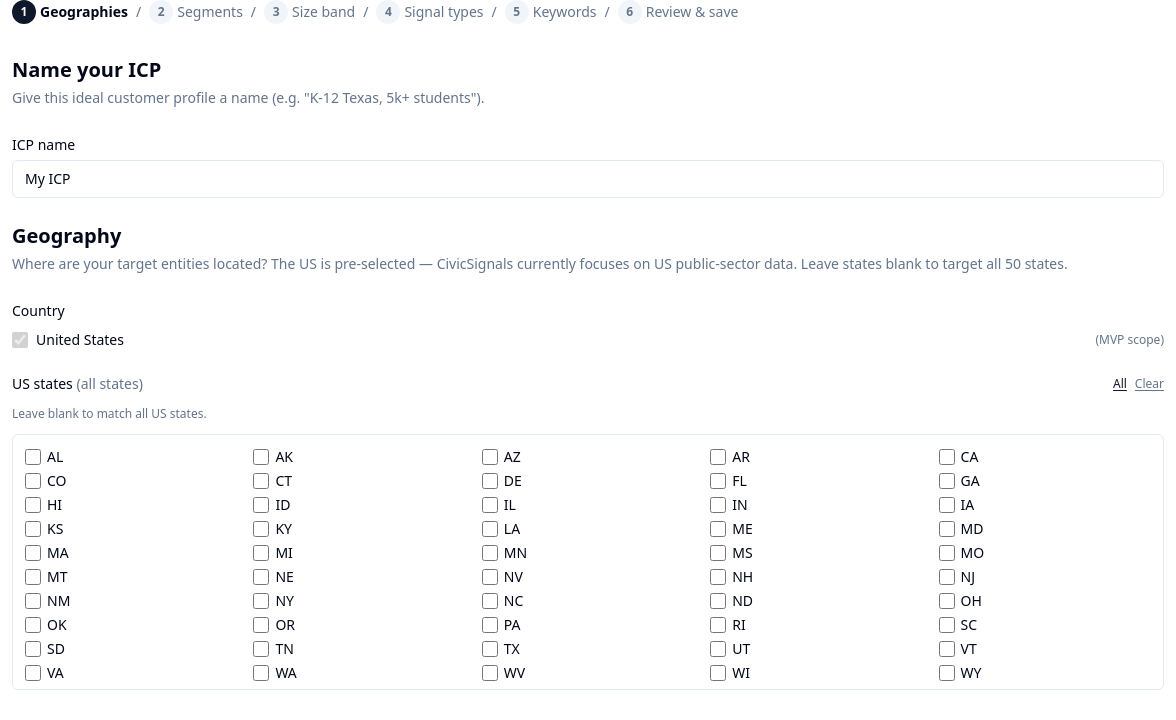
Test: IcpWizard — per-step validation › blocks Continue on the signals step when no signal type is selected
Type "Test ICP" into the field labelled "ICP name".
click(588, 179); type("Test ICP")  # box 12,160 -> 1164,198
(page scrolled)
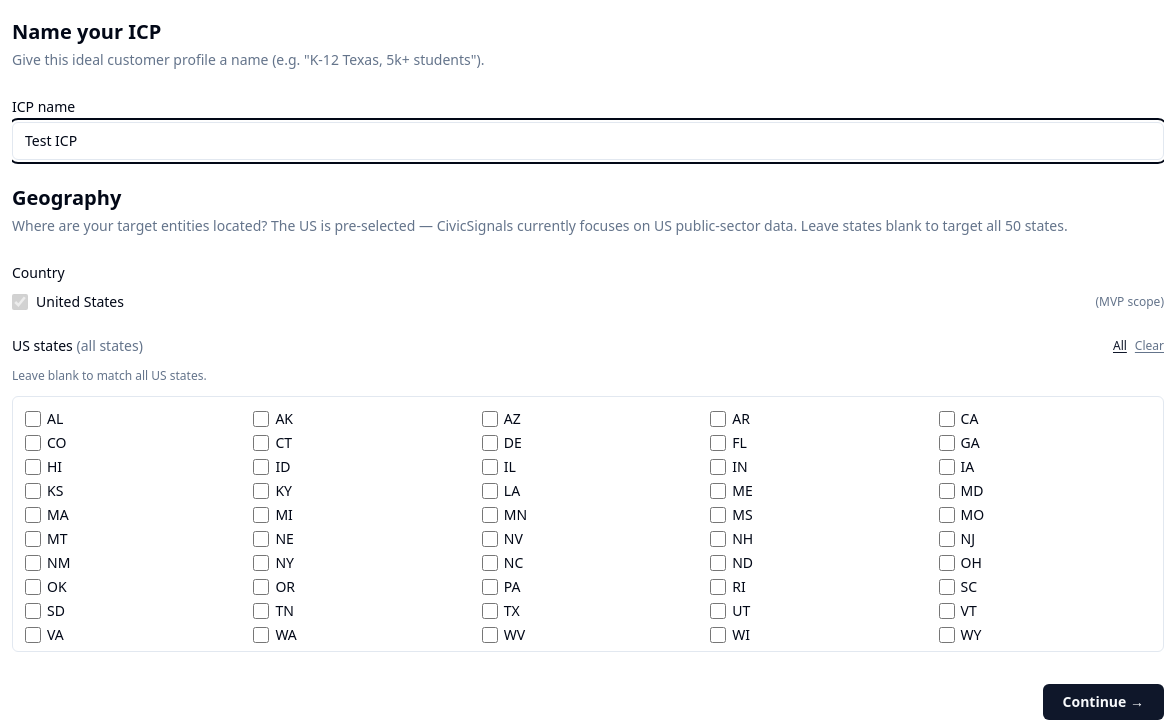
Click the button "Continue →".
click(1103, 702)  # box 1042,684 -> 1164,719
(page scrolled)
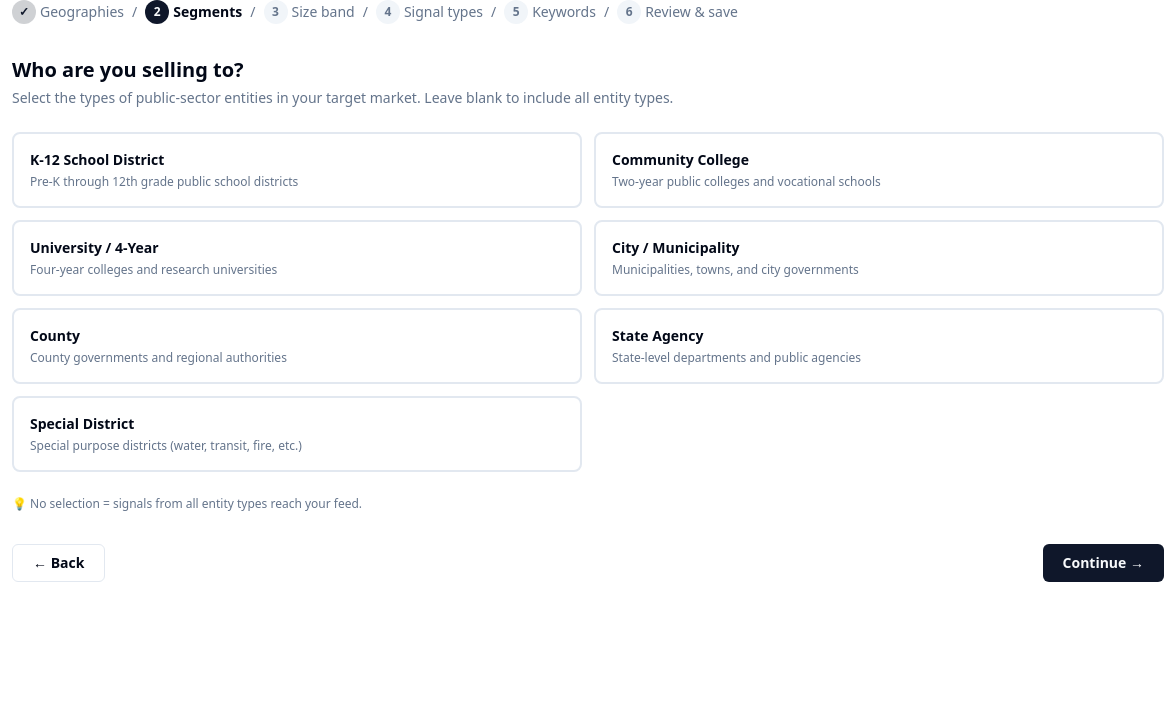
Check: the heading "Who are you selling to?" is shown, box 12,56 -> 244,83
Click the button "Continue →".
click(1103, 563)  # box 1042,544 -> 1164,582
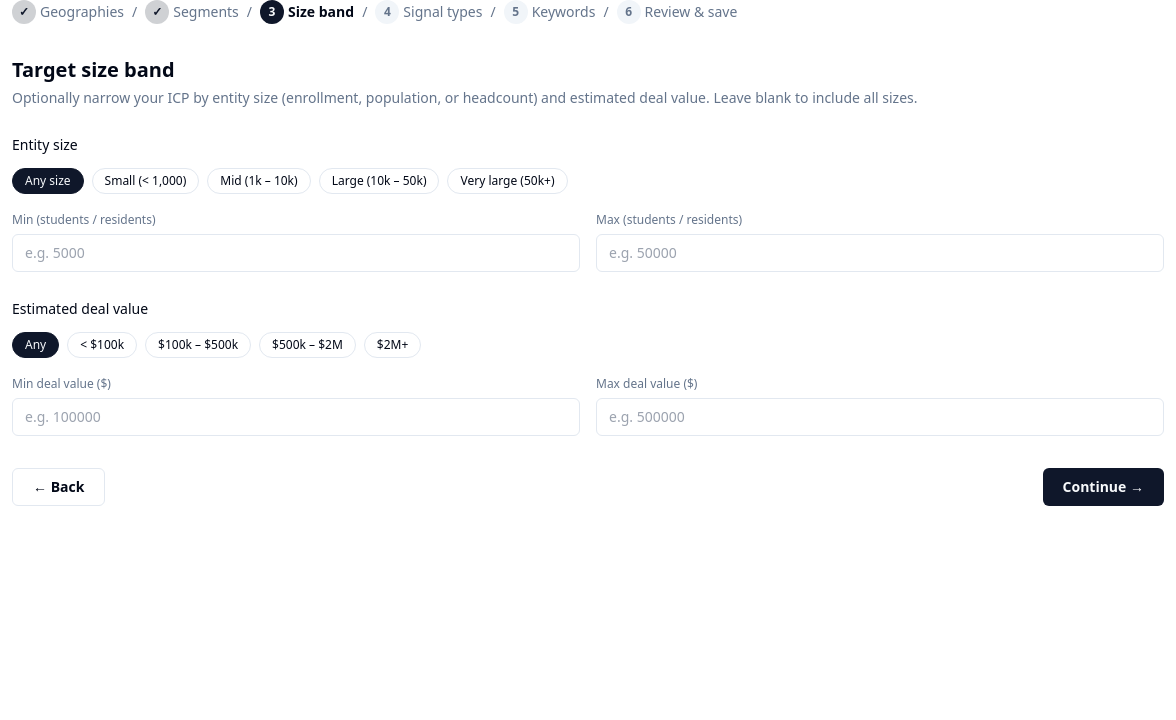
Check: the heading "Target size band" is shown, box 12,56 -> 175,83
Click the button "Continue →".
click(1103, 487)  # box 1042,468 -> 1164,506
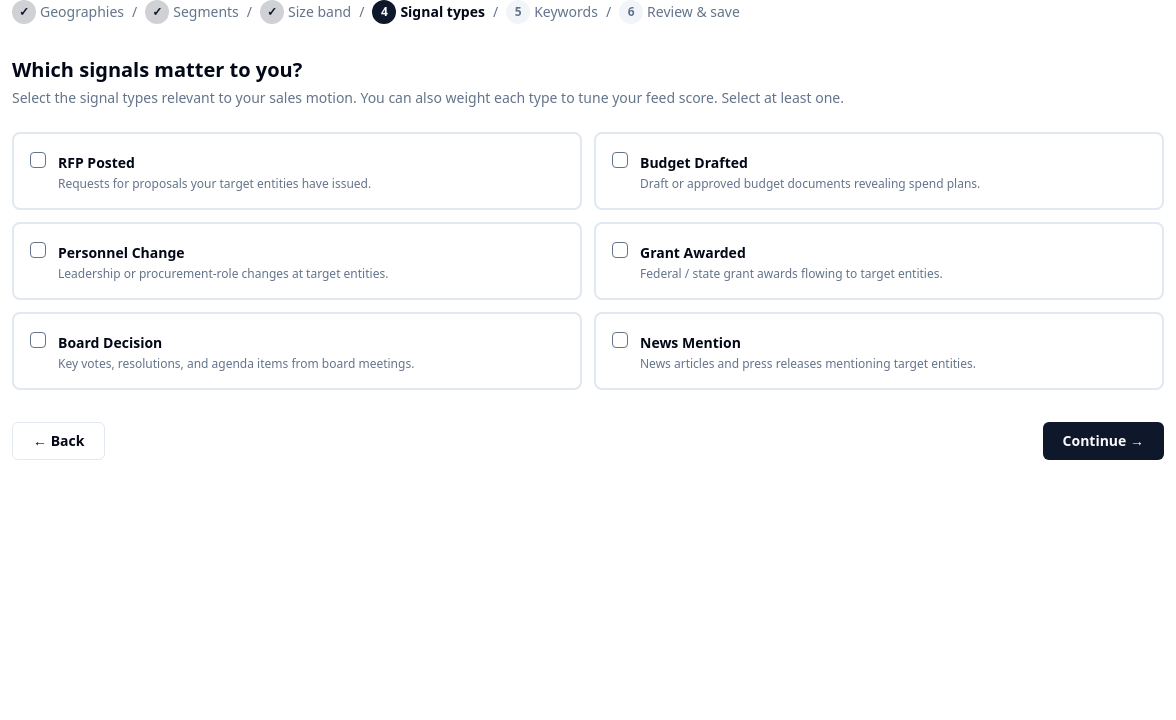
Check: the heading "Which signals matter to you?" is shown, box 12,56 -> 302,83
Click the button "Continue →".
click(1103, 441)  # box 1042,422 -> 1164,460
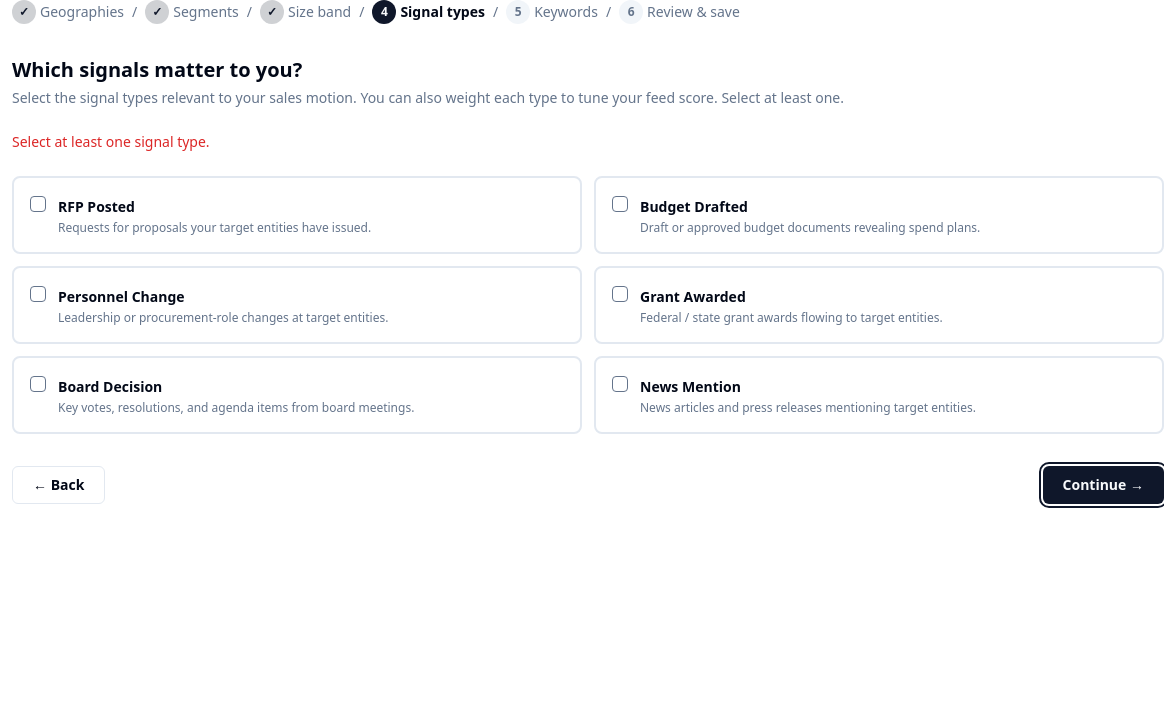
Check: the heading "Which signals matter to you?" is shown, box 12,56 -> 302,83
Check: the text "Select at least one signal type." is shown, box 12,132 -> 210,151
